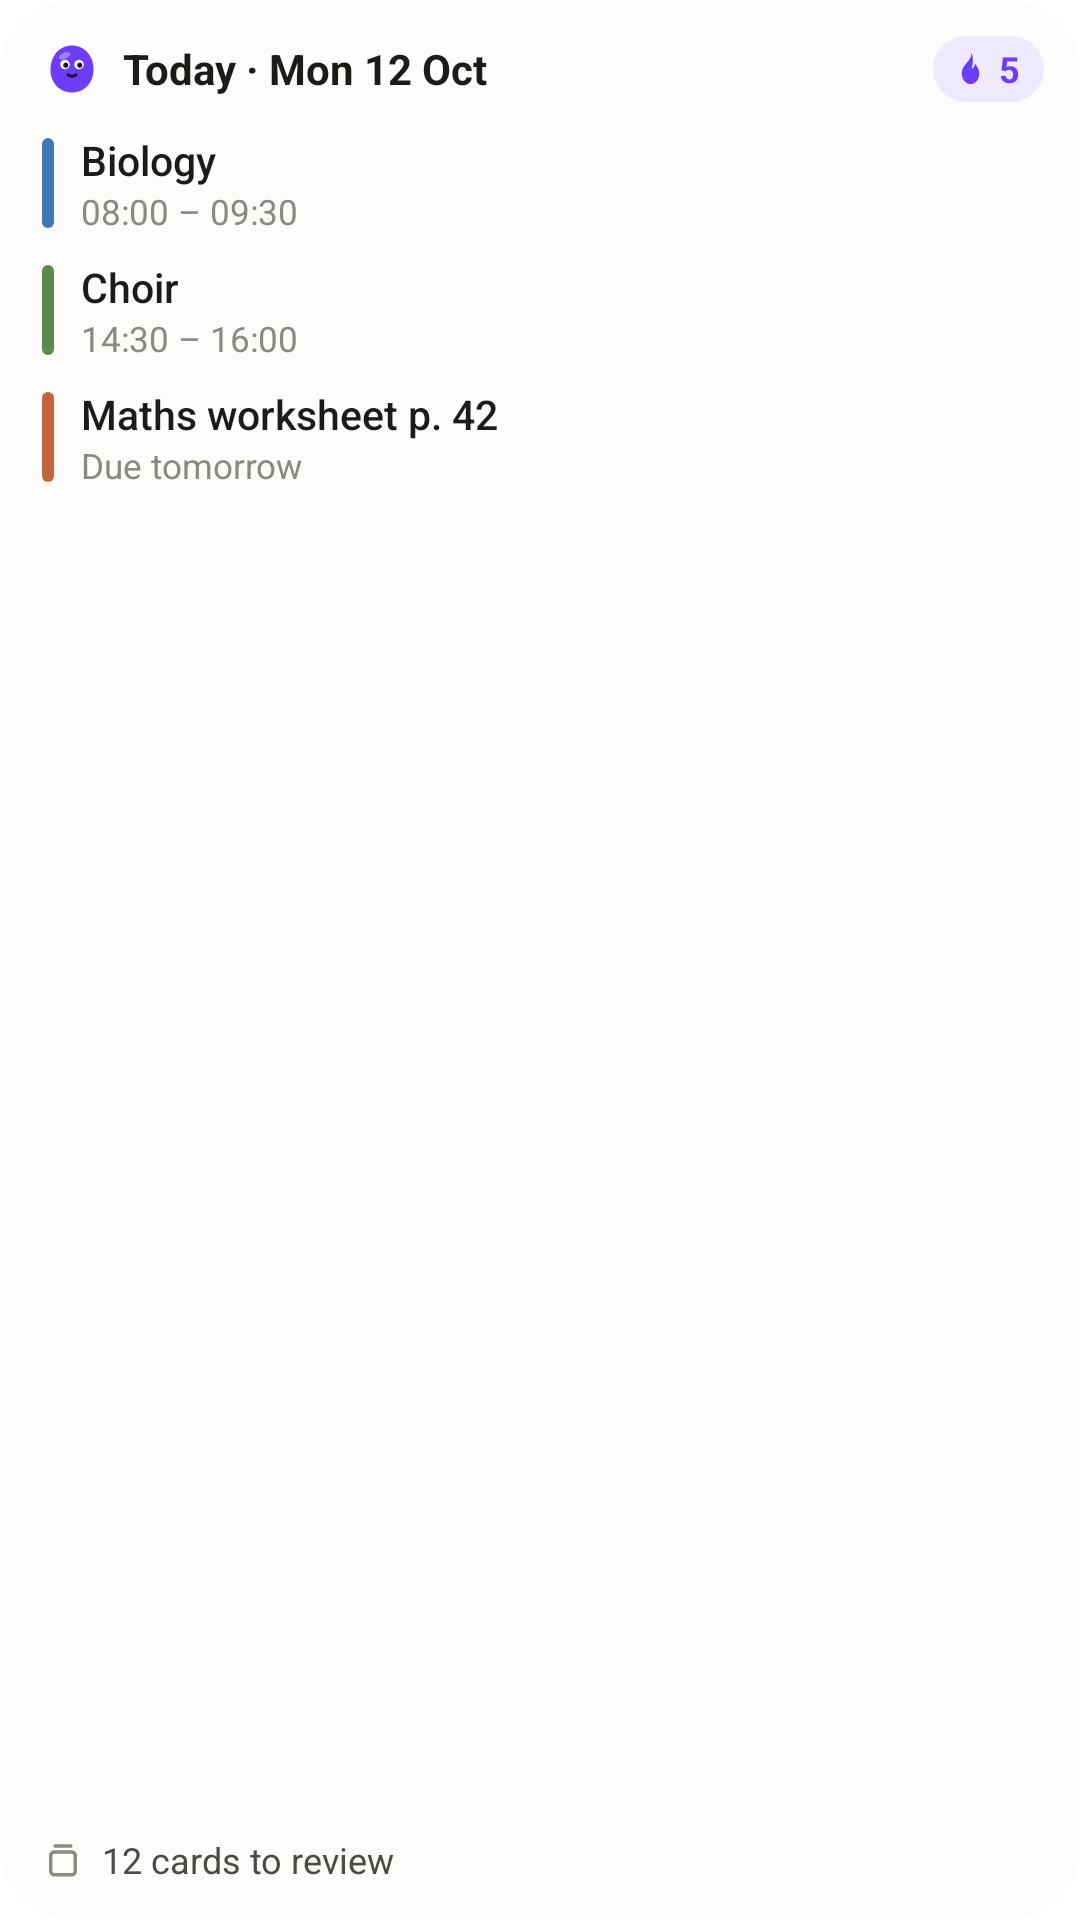

Locate icon controls on the screen. Image size 1080 × 1920, boxes as (x1, y1, x2, y2).
widget blob: (50, 45, 94, 93)
widget cards: (49, 1844, 77, 1877)
widget flame: (961, 53, 980, 84)
